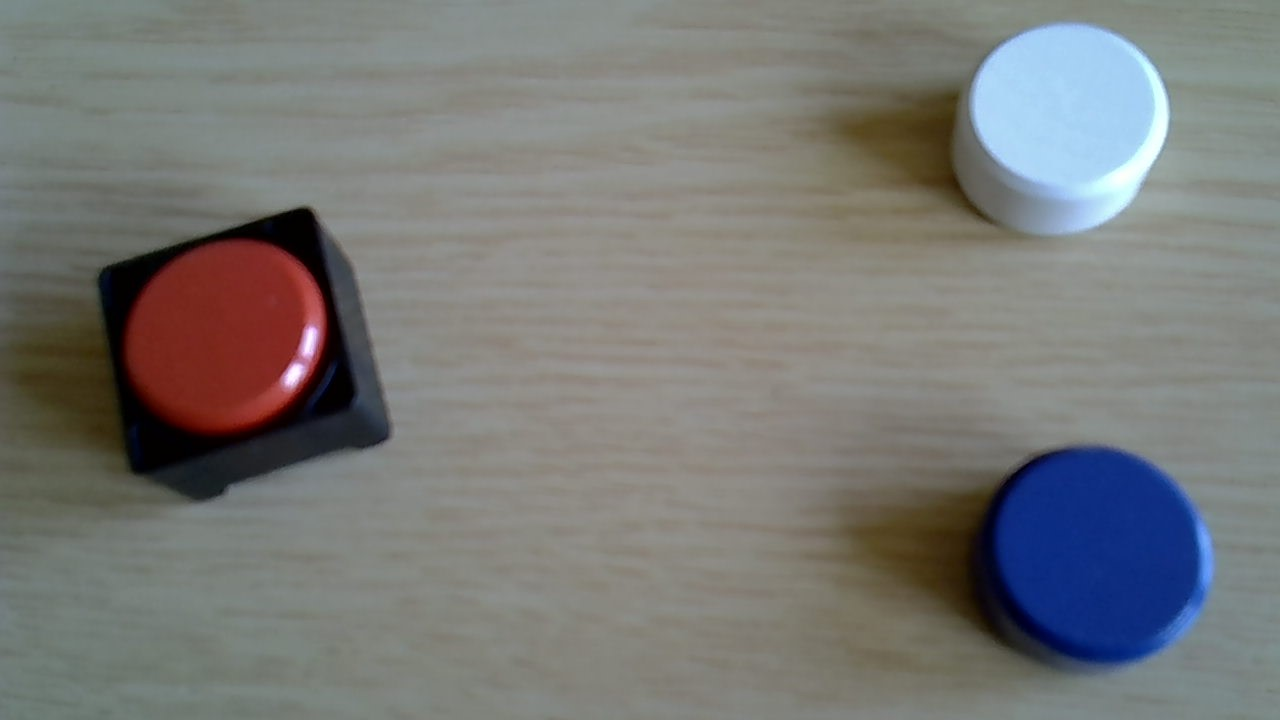Behaelter: (93, 207, 395, 501)
WerkStueck: (966, 444, 1215, 678), (950, 22, 1169, 239), (125, 237, 331, 441)
